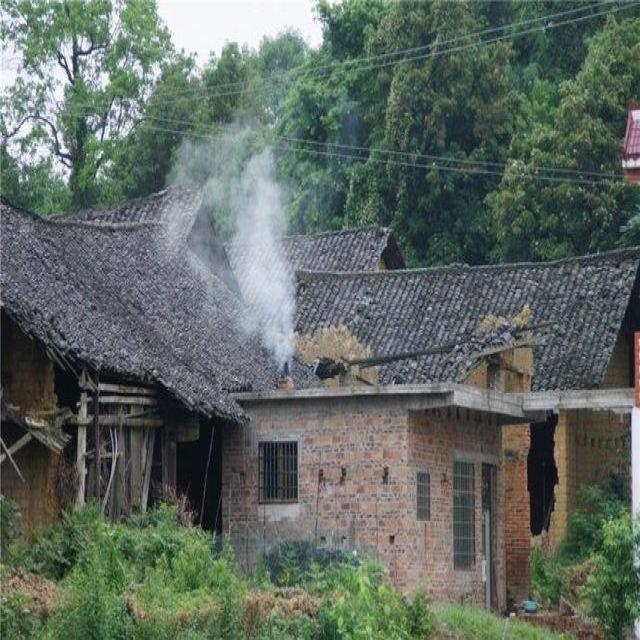Smoke: (158, 120, 300, 378)
